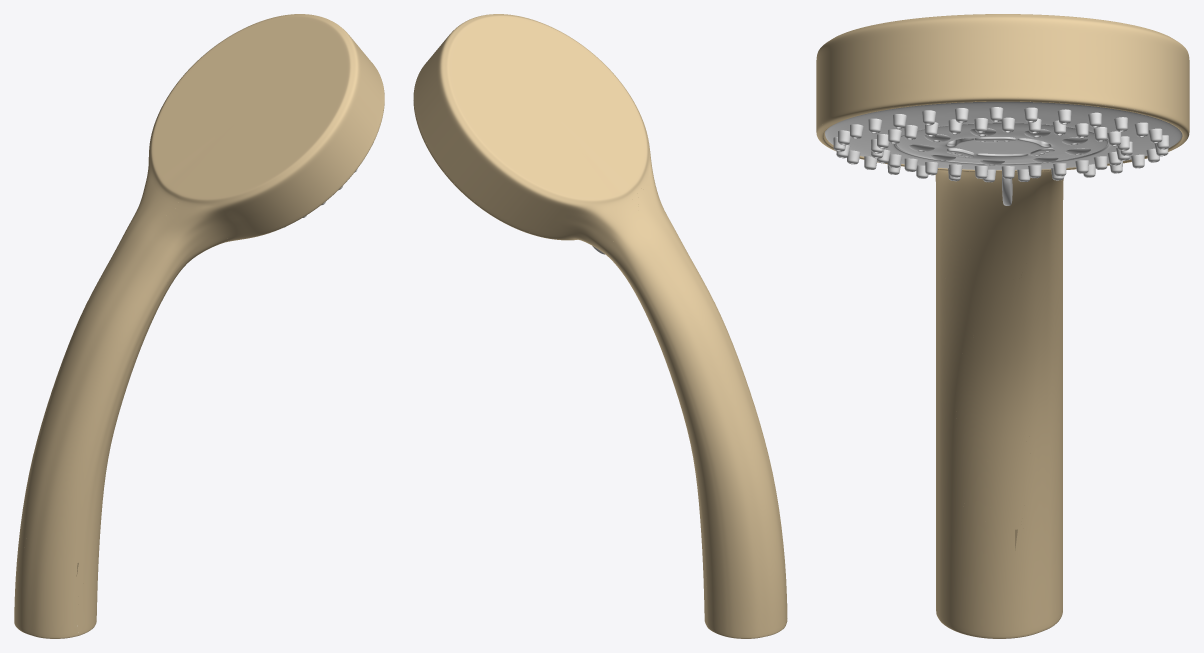
The model's file is shower-head-draco.glb.
The picture shows the model from 3 angles, left to right: view 1: azimuth 30°, elevation 25°; view 2: azimuth 150°, elevation 25°; view 3: azimuth 270°, elevation 25°; orthographic projection. The views are drawn at different scales.
Visible parts, largest first — view 1: Object_4.074, Object_3.006; view 2: Object_4.074, Object_3.006; view 3: Object_3.006, Object_4.074, Object_8.002, Object_4.073, Object_4.075, Object_4.077.
Boxes of the visible parts, x1,y1,x2,y2 form: Object_4.074: [138, 14, 384, 253]; Object_3.006: [14, 70, 384, 638]; Object_4.074: [413, 14, 661, 251]; Object_3.006: [413, 74, 787, 638]; Object_3.006: [816, 96, 1189, 638]; Object_4.074: [816, 14, 1189, 175]; Object_8.002: [825, 101, 1182, 170]; Object_4.073: [939, 233, 1035, 356]; Object_4.075: [817, 99, 1188, 150]; Object_4.077: [820, 101, 1185, 172].
Bounding box in the file's own units: 0.375 × 0.5444 × 0.2283.
